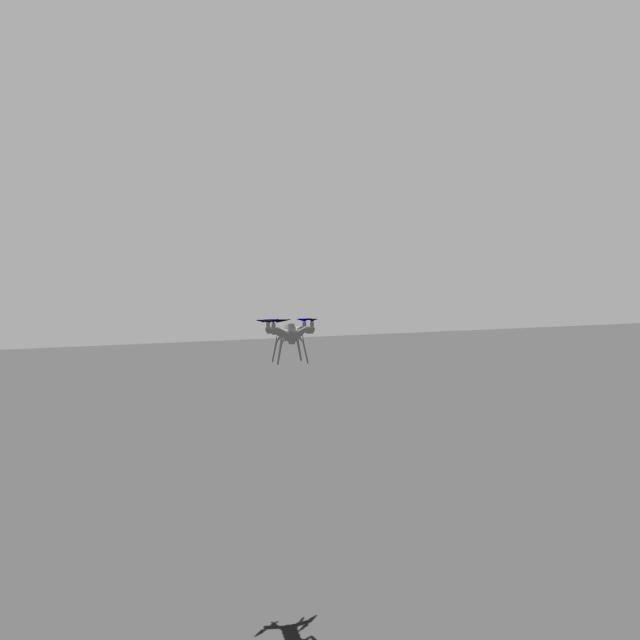Drone: (255, 303, 319, 368)
